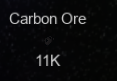Carbon: (8, 11, 88, 69)
